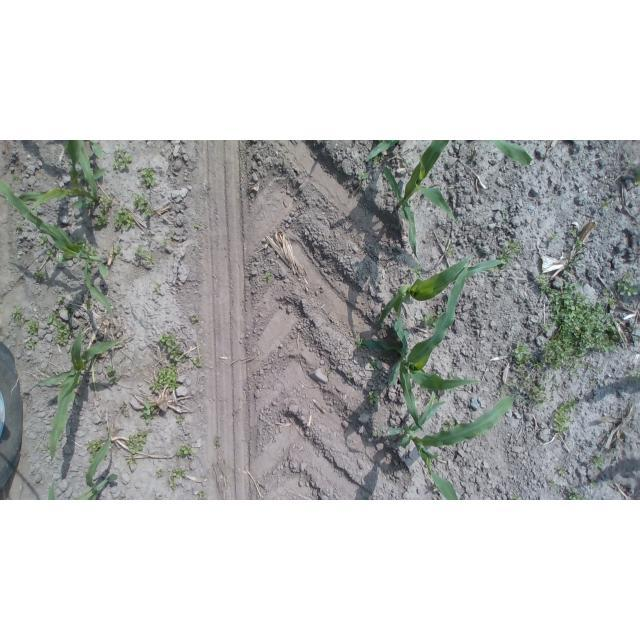Maize: (370, 262, 485, 433), (0, 180, 112, 319), (387, 389, 515, 500), (41, 326, 126, 462), (377, 252, 507, 326), (384, 141, 458, 262), (46, 432, 119, 500), (16, 168, 108, 217), (367, 140, 534, 165), (66, 140, 105, 198)
Weeds: (545, 280, 618, 371), (554, 394, 579, 434), (150, 363, 181, 392), (521, 376, 548, 408), (158, 332, 182, 361), (497, 241, 521, 267), (511, 341, 531, 368), (132, 193, 155, 216), (73, 236, 99, 256), (114, 206, 136, 229), (126, 431, 148, 454), (618, 273, 639, 295), (86, 440, 104, 463), (55, 322, 72, 346), (113, 149, 132, 170), (141, 402, 155, 423), (140, 168, 156, 186), (536, 272, 550, 292), (98, 193, 113, 211), (421, 314, 437, 329), (567, 487, 585, 500), (177, 445, 196, 457), (46, 310, 60, 326), (12, 306, 25, 323), (26, 317, 38, 335), (625, 369, 640, 382), (75, 170, 87, 186), (366, 357, 379, 371), (96, 213, 108, 228), (592, 452, 603, 468), (443, 418, 456, 431), (368, 390, 380, 404), (356, 171, 368, 185), (371, 425, 383, 438), (410, 264, 422, 277), (136, 244, 149, 256), (531, 359, 545, 370), (426, 391, 438, 403), (33, 270, 45, 282), (540, 322, 553, 333), (507, 379, 520, 390), (143, 254, 155, 265), (173, 468, 186, 478), (82, 259, 95, 269), (85, 197, 96, 208), (444, 247, 456, 257), (575, 237, 583, 252), (515, 370, 528, 379), (449, 371, 461, 380), (355, 338, 365, 348), (45, 249, 56, 258), (112, 246, 123, 255), (39, 237, 50, 246), (538, 372, 549, 381), (634, 171, 640, 186), (627, 324, 637, 333), (28, 339, 36, 350), (154, 282, 162, 293), (499, 385, 507, 396), (198, 491, 207, 500), (549, 234, 558, 243), (567, 257, 576, 266), (109, 376, 118, 385), (194, 359, 203, 368), (128, 458, 137, 467), (169, 479, 176, 490), (491, 266, 499, 275), (107, 365, 116, 373), (372, 155, 380, 164), (550, 480, 559, 488), (558, 466, 567, 474), (16, 224, 23, 234), (549, 386, 559, 393), (572, 371, 580, 379), (176, 416, 184, 424), (433, 483, 440, 492), (445, 387, 455, 393), (603, 200, 610, 208), (12, 174, 19, 182), (591, 480, 598, 488), (262, 273, 270, 280), (157, 470, 164, 477), (436, 309, 444, 315), (161, 238, 167, 246), (192, 318, 200, 324), (551, 374, 557, 382), (502, 210, 507, 219), (628, 161, 634, 168), (120, 405, 126, 412), (512, 493, 518, 500), (86, 301, 91, 309), (195, 222, 201, 228), (571, 230, 578, 235), (66, 309, 71, 316), (57, 297, 64, 302), (563, 269, 570, 274), (216, 442, 221, 449), (327, 368, 332, 374), (43, 446, 50, 450), (148, 233, 152, 240), (349, 376, 354, 381), (637, 337, 640, 344), (592, 378, 596, 383), (183, 357, 187, 362), (378, 140, 386, 142), (155, 497, 159, 500), (119, 498, 123, 500)
